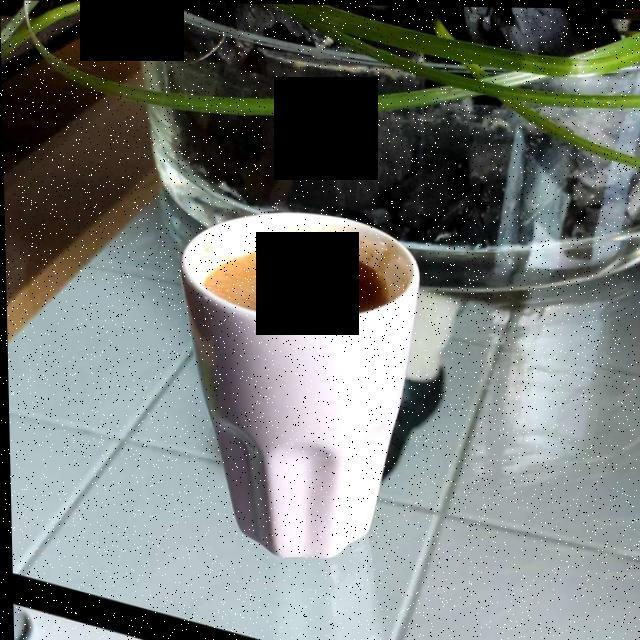coffee: (207, 247, 388, 314)
